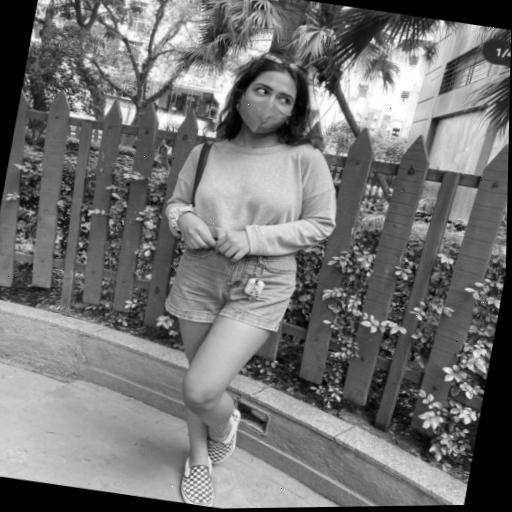mask: (234, 74, 298, 138)
